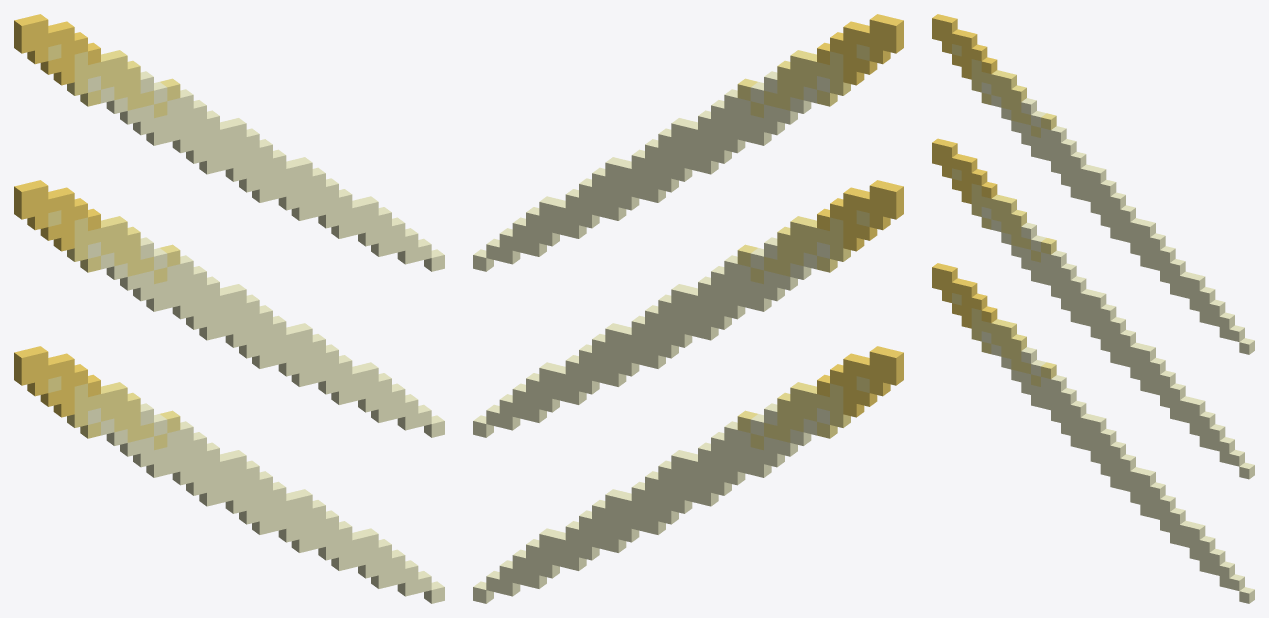
File: Fight_761_2_02_fx.obj
3 renders of one model, left to right at view 1: azimuth 30°, elevation 25°; view 2: azimuth 150°, elevation 25°; view 3: azimuth 330°, elevation 25°, orthographic. The views are drawn at different scales.
Size of the model in its own units: 3.2 by 4.9 by 0.1.
1 material, 1 textured.
